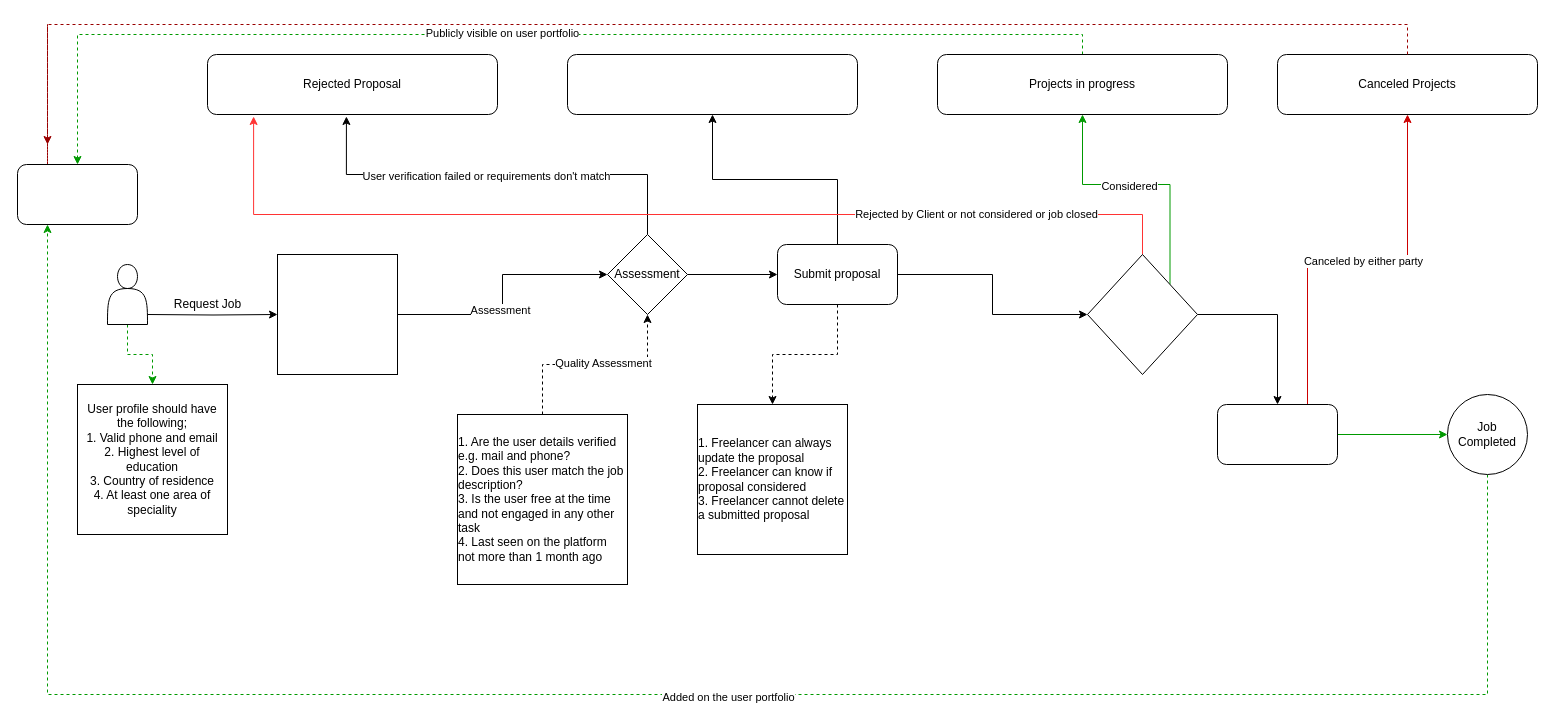
This 1555x721 diagram has some shape labels left out. The centre of each missing label's shape, as x and y in pixels:
"Open Submitted Proposals" belongs at (712,84).
"Proposal Assessment" belongs at (1142,314).
"Related Job pool" belongs at (337,314).
"User work portfolio" belongs at (77,194).
"Work Collaboration Center" belongs at (1277,434).
